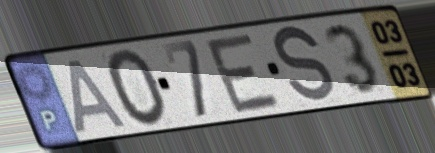3: (322, 20, 382, 96)
7: (158, 37, 213, 123)
A: (65, 56, 132, 135)
E: (201, 30, 286, 117)
O: (105, 47, 170, 131)
S: (272, 22, 336, 108)
